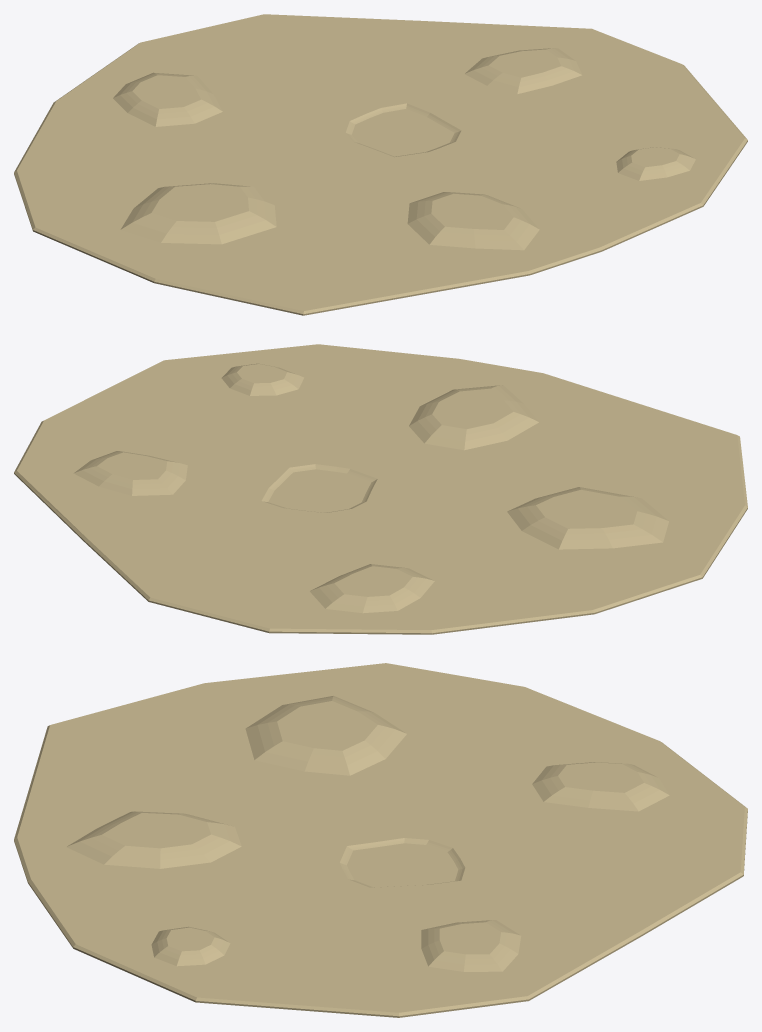
The model's file is sand-terrain-blob-f6255a.glb.
The picture shows the model from 3 angles, top to bottom: view 1: azimuth 30°, elevation 25°; view 2: azimuth 150°, elevation 25°; view 3: azimuth 270°, elevation 25°; orthographic projection. The views are drawn at different scales.
Parts seen in each view (by area): view 1: sand-terrain-blob-mesh; view 2: sand-terrain-blob-mesh; view 3: sand-terrain-blob-mesh.
Part boxes in pixels (x1,y1,x2,y2): sand-terrain-blob-mesh: [14, 14, 747, 315]; sand-terrain-blob-mesh: [14, 344, 747, 634]; sand-terrain-blob-mesh: [14, 663, 747, 1017].
Bounding box in the file's own units: 10 × 0.198 × 8.8.
